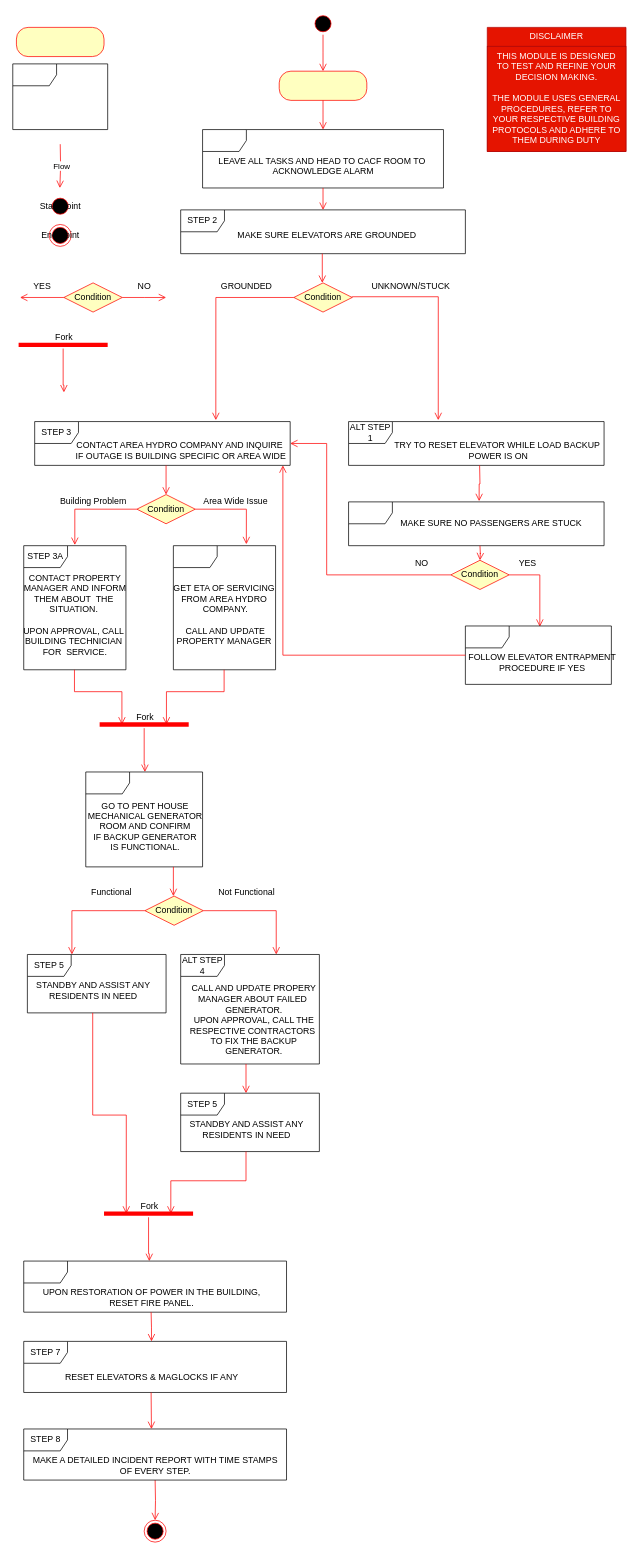
Image size: 639x1555. Some labels were removed from this diagram. Each missing label, with the box of its shape:
ALT STEP 2: (348, 501, 604, 546)
ALT STEP 3: (465, 625, 611, 684)
POWER OUTAGE: (278, 70, 367, 100)
Situation Context: (16, 27, 104, 57)
STEP 1: (202, 129, 443, 188)
STEP 3B: (173, 545, 276, 670)
STEP 4: (85, 771, 203, 867)
STEP 6: (23, 1260, 287, 1312)
STEPS: (12, 63, 108, 130)
